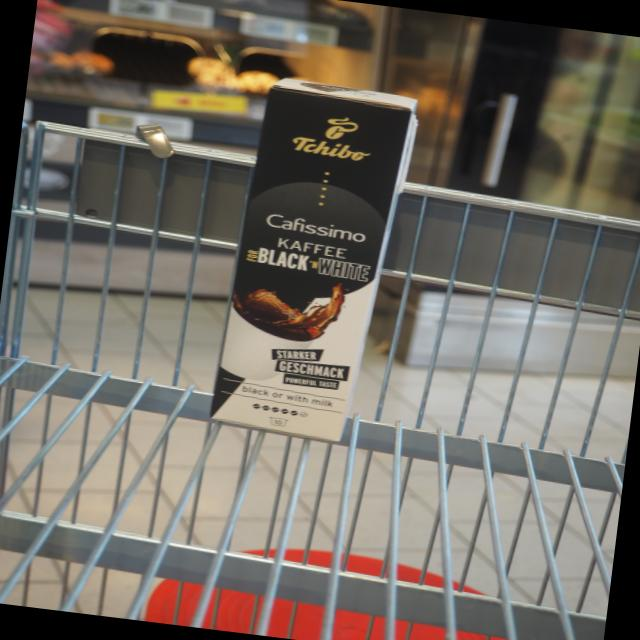Simo Kaffee BW: (205, 84, 421, 446)
